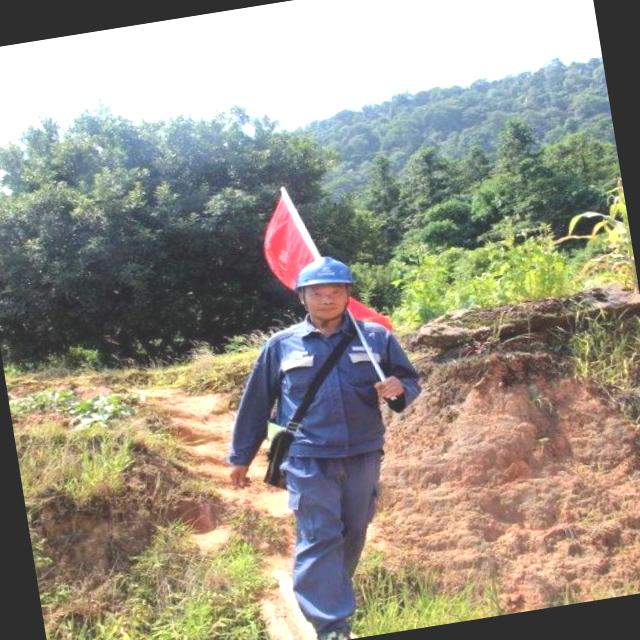helmet: (290, 252, 363, 293)
no-vest: (260, 318, 398, 466)
